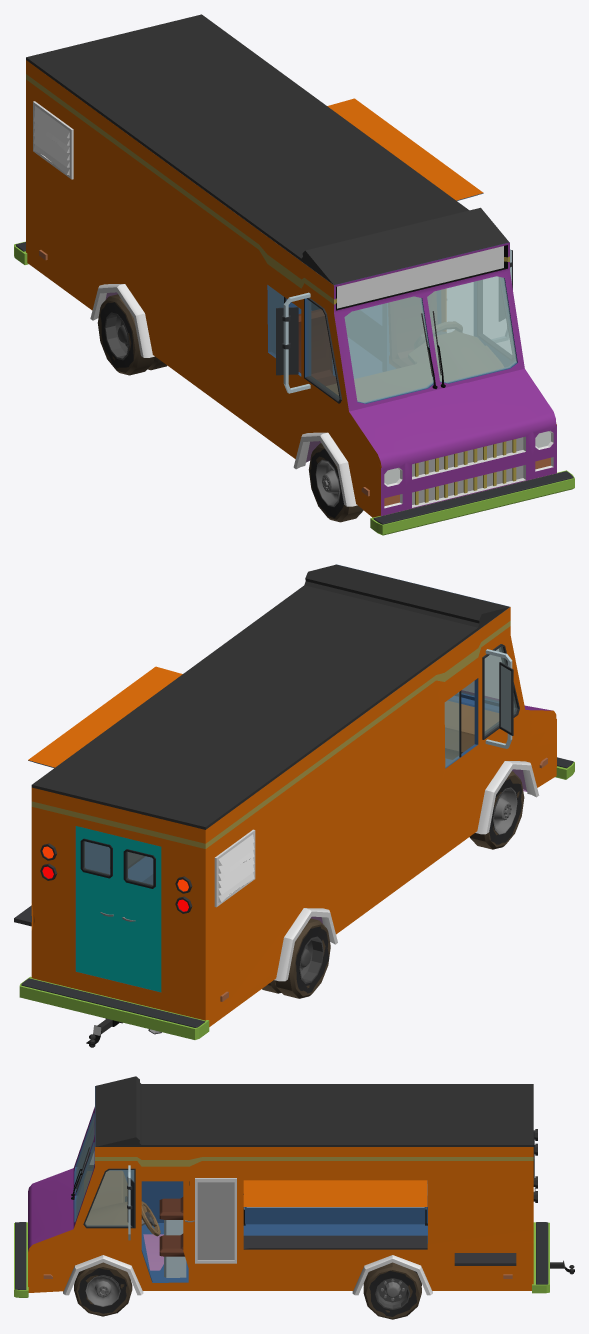
File: FoodTruckLong.fbx
3 renders of one model, top to bottom at view 1: azimuth 30°, elevation 25°; view 2: azimuth 150°, elevation 25°; view 3: azimuth 270°, elevation 25°, orthographic. The views are drawn at different scales.
Visible parts, largest first — view 1: MainBody, Dash, Main_Door, Tire_RR2, Tire_FL1, Grill_Bars; view 2: MainBody, Rear_Door_R, Rear_Door_L, Main_Door, Tire_RR2, Tire_FL1, Dash; view 3: MainBody, Main_Door, Board1, Tire_RR1, Tire_FL, Dash, DoorShape, Steering_Wheel.
Boxes of the visible parts, x1,y1,x2,y2 form: MainBody: [14, 14, 574, 535]; Dash: [326, 331, 503, 401]; Main_Door: [327, 98, 483, 200]; Tire_RR2: [97, 294, 167, 375]; Tire_FL1: [308, 443, 363, 522]; Grill_Bars: [415, 439, 516, 504]; MainBody: [14, 564, 574, 1039]; Rear_Door_R: [118, 836, 161, 992]; Rear_Door_L: [76, 826, 118, 981]; Main_Door: [28, 666, 182, 767]; Tire_RR2: [262, 918, 330, 998]; Tire_FL1: [469, 771, 524, 849]; Dash: [445, 701, 498, 759]; MainBody: [14, 1076, 549, 1297]; Main_Door: [243, 1180, 427, 1207]; Board1: [195, 1178, 236, 1263]; Tire_RR1: [363, 1262, 421, 1319]; Tire_FL: [74, 1262, 132, 1316]; Dash: [84, 1171, 127, 1224]; DoorShape: [183, 1181, 189, 1267]; Steering_Wheel: [141, 1201, 160, 1236].
Bounding box in the file's own units: 383 × 325 × 916.
